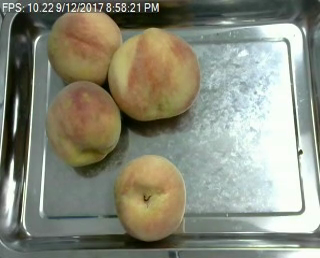Peach: (108, 26, 200, 122), (46, 79, 121, 167), (114, 155, 186, 242), (48, 5, 124, 86)
